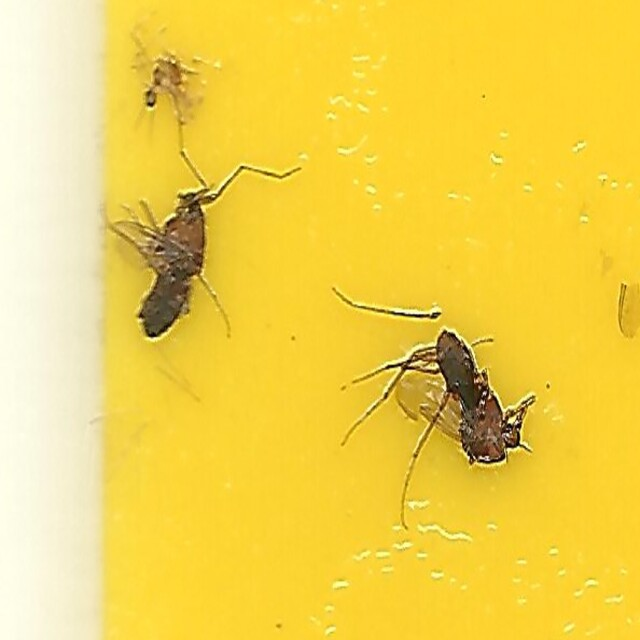Nematocera: (384, 324, 532, 477), (108, 163, 210, 344)
